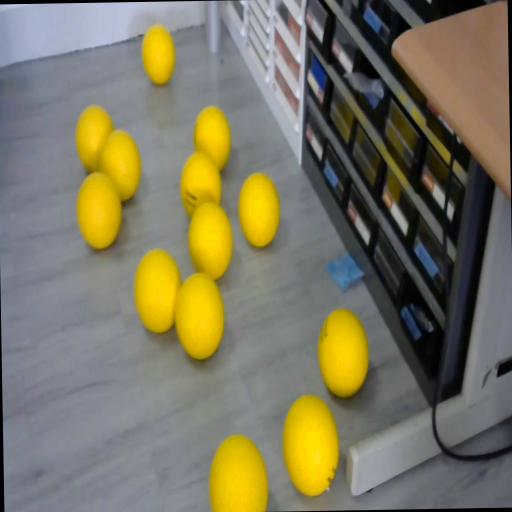FUEL: (282, 392, 342, 496), (316, 306, 370, 398), (172, 270, 226, 360), (208, 433, 268, 512), (134, 248, 182, 332), (186, 201, 233, 280), (76, 170, 122, 250), (236, 171, 280, 247), (75, 104, 115, 174), (193, 105, 232, 170), (141, 23, 176, 85)
